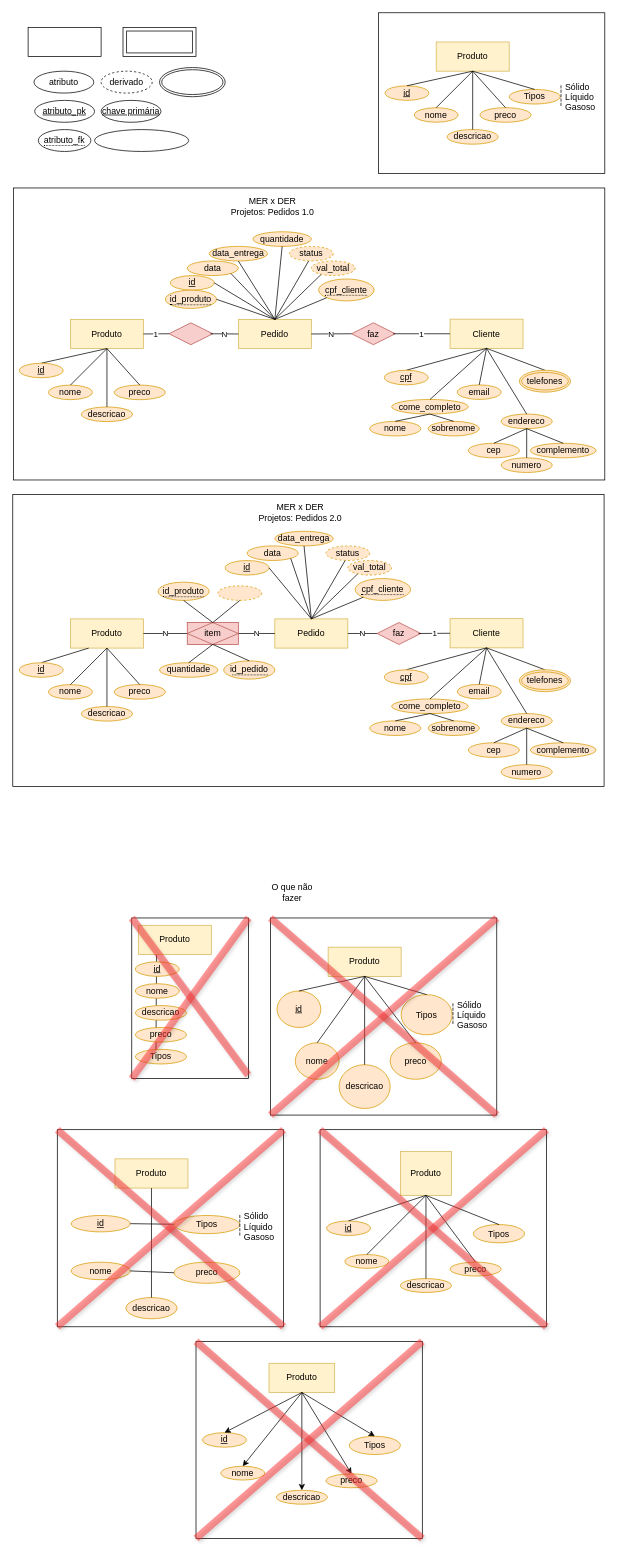
Image size: 618x1561. Some labels were removed from this diagram. The shapes that lost their labels are listed below. From the top down, each one's centre as x and y in pixels, then its label:
At (x=64, y=42): "Entidade".
At (x=159, y=42): "Entidade Fraca".
At (x=192, y=82): "multivalorado".
At (x=141, y=140): "chave estrangeira".
At (x=190, y=333): "possui".
At (x=239, y=592): "subtotal".
